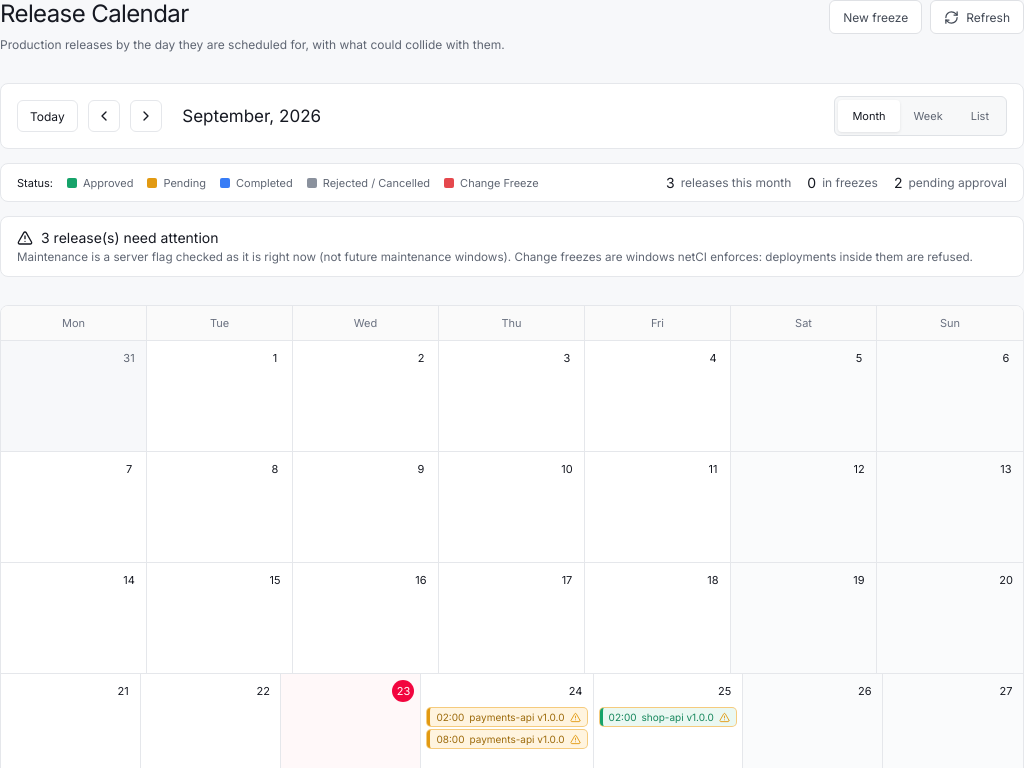
Test: ReleaseCalendarPage › clicking an event opens the side panel with its details
Check: the element with test id "calendar-summary" is shown, box [0,216,1023,277]
Click the button with class "cal-chip" showing "02:00 shop-api v1.0.0": x=668, y=717 [600,708,736,726]
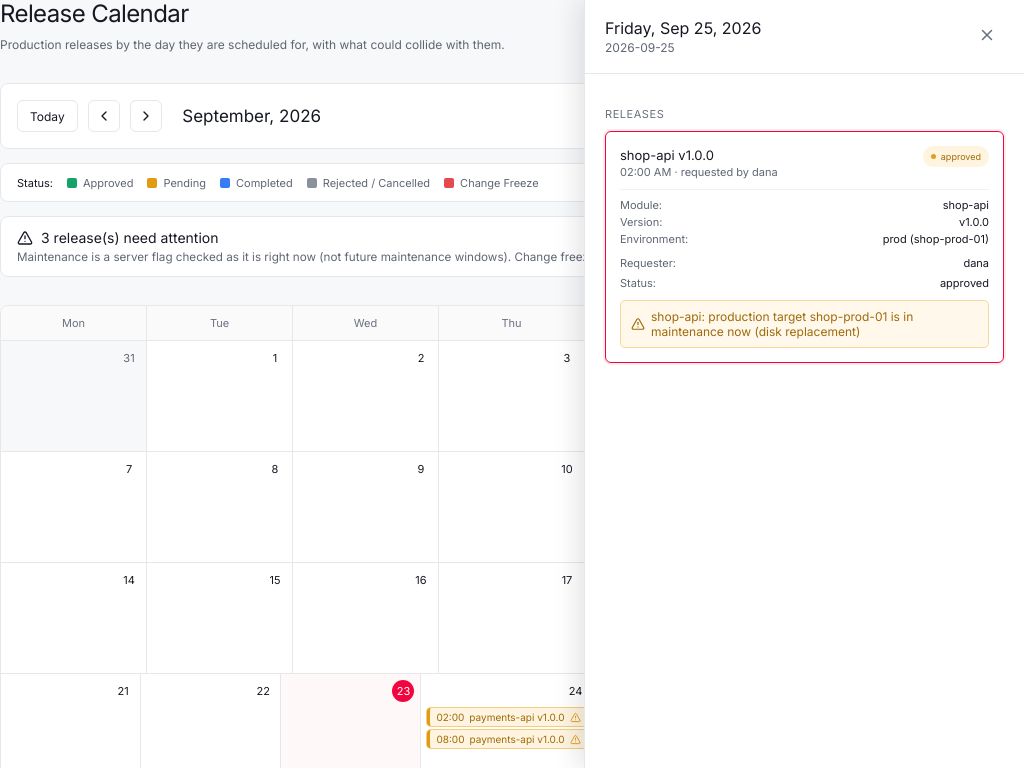
Check: the element with test id "calendar-side-panel" is shown, box [584,0,1023,767]
Check: the element with test id "calendar-side-panel" shows "shop-api", box [943,198,989,212]
Check: the element with test id "calendar-side-panel" shows "v1.0.0", box [959,215,989,229]
// Close side panel
Click the button named "Close": x=987, y=35 [970,18,1004,52]
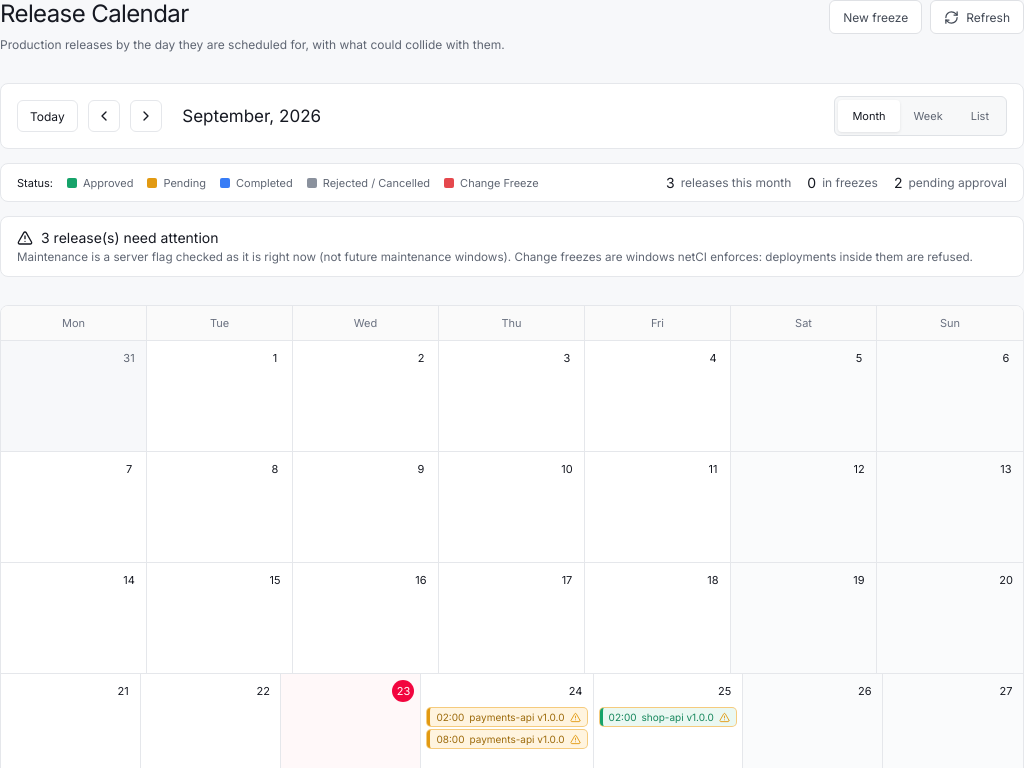
Check: the element with test id "calendar-side-panel" is gone
